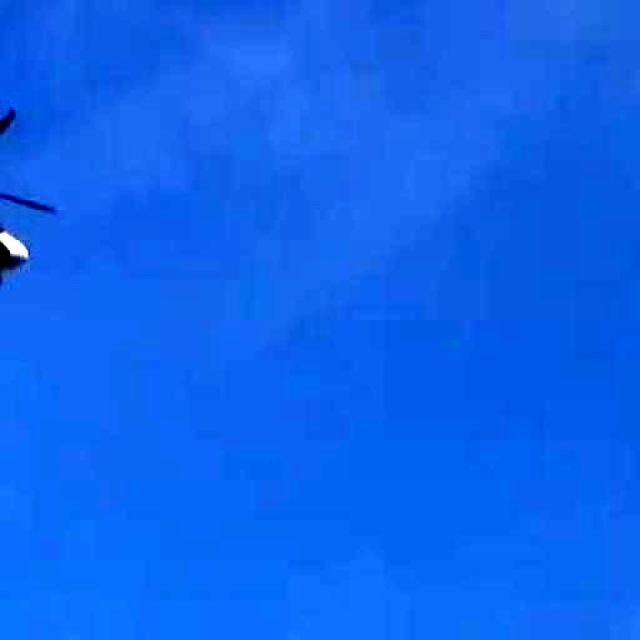drone: (0, 40, 104, 332)
